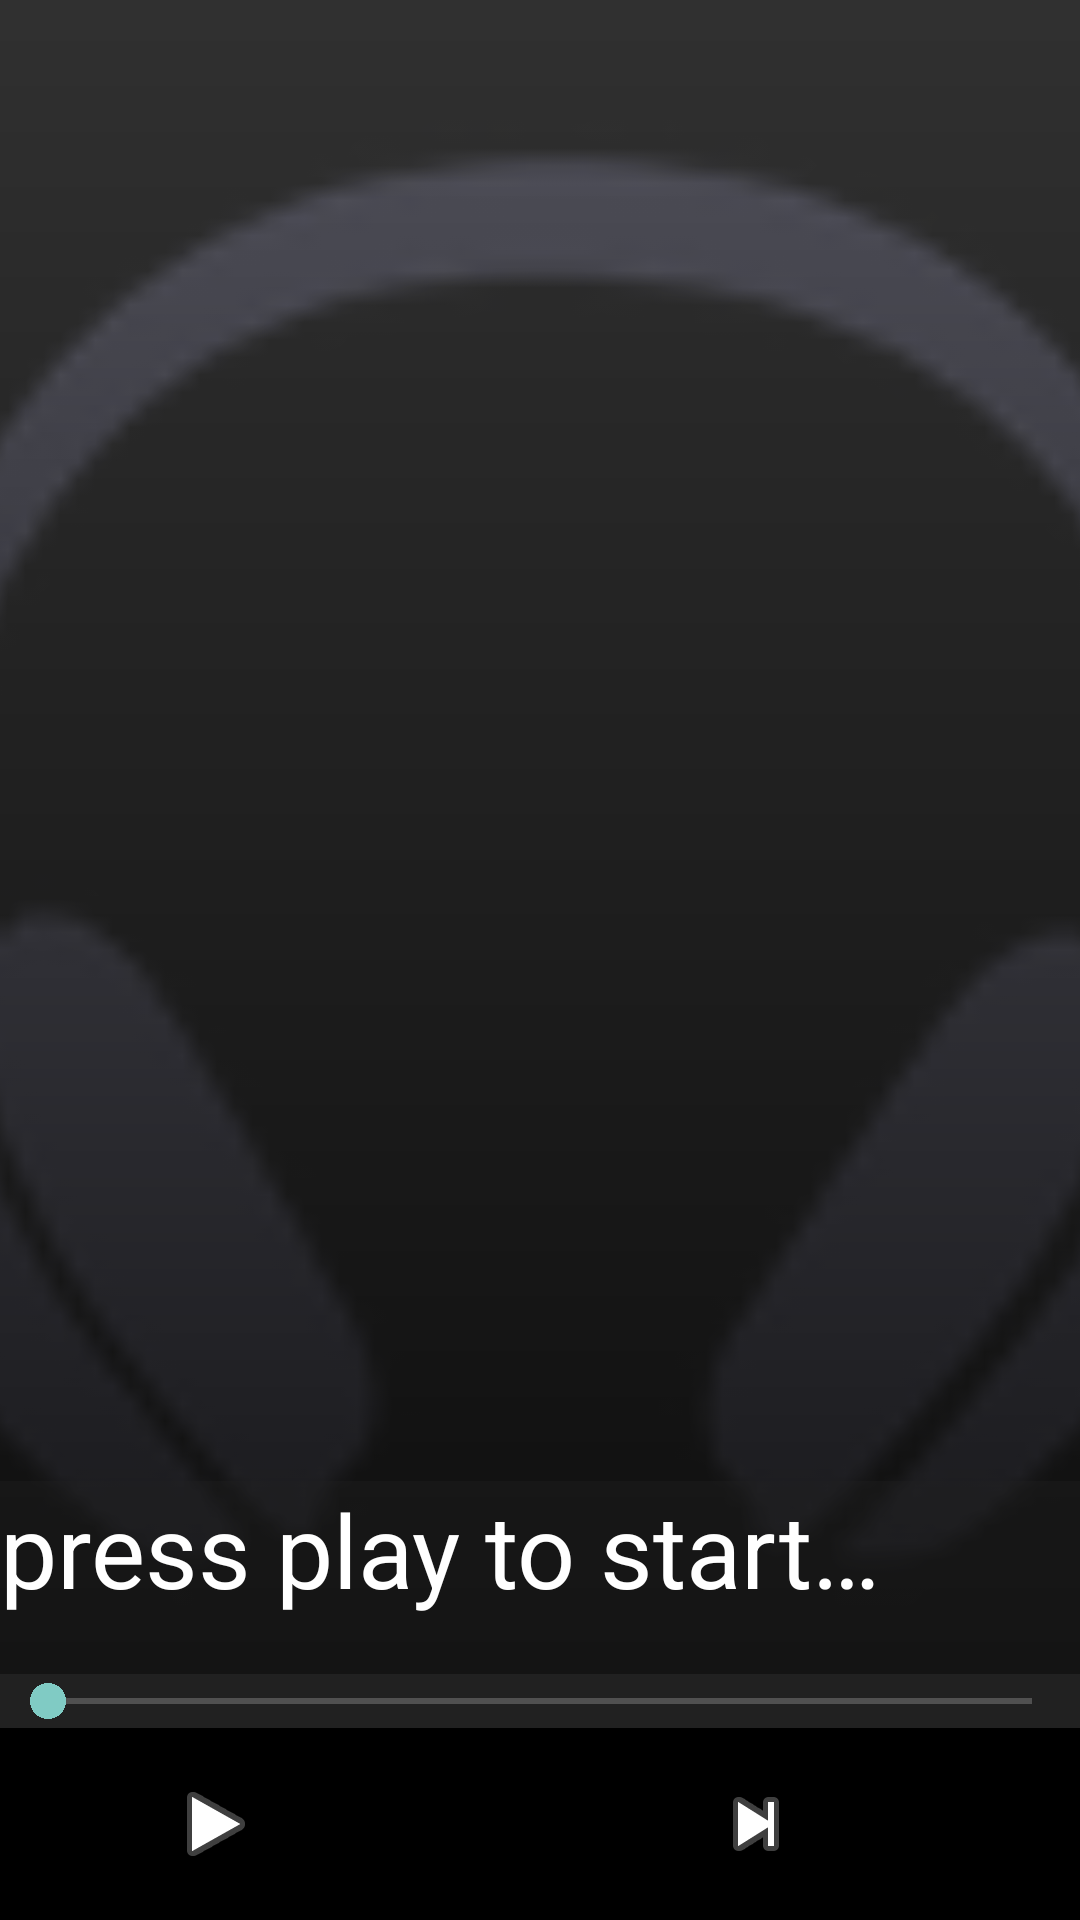

Locate icon controls on the screen. Image size 1080px x 1920px, boxes as bbox(x1, y1, x2, y2).
NEXT: bbox(733, 1797, 779, 1851)
